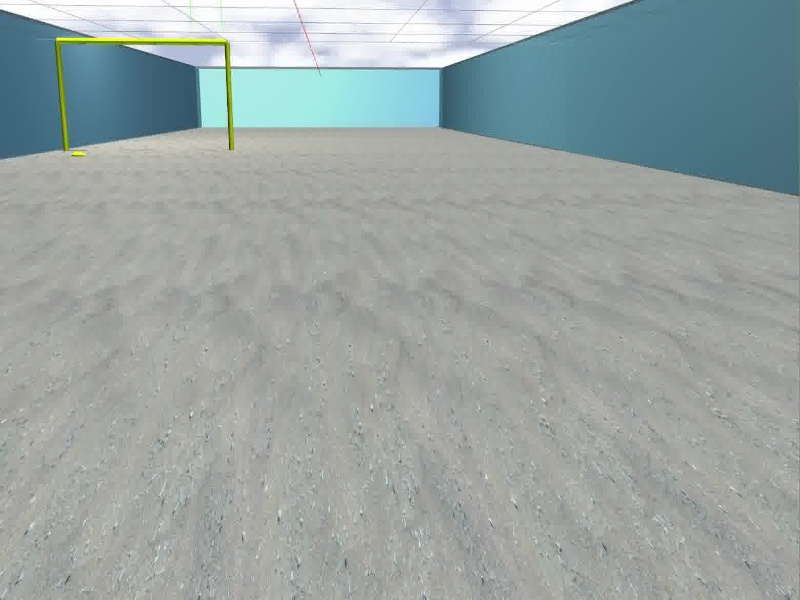gate: (56, 36, 236, 152)
